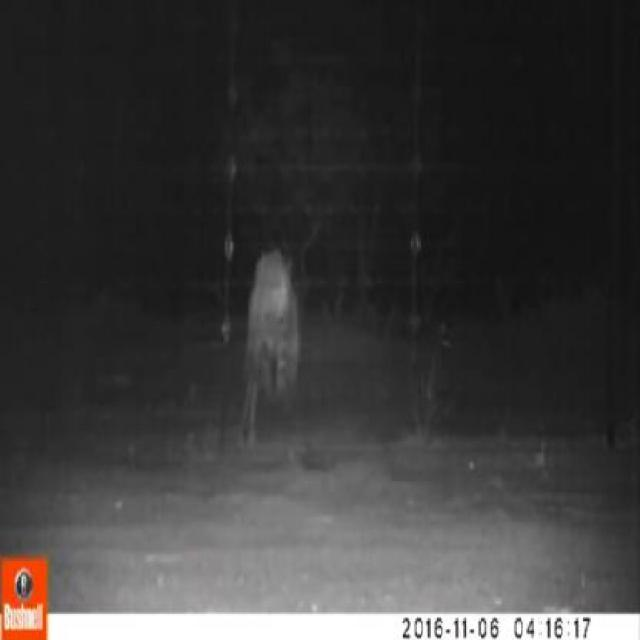Leopard: (232, 228, 319, 420)
